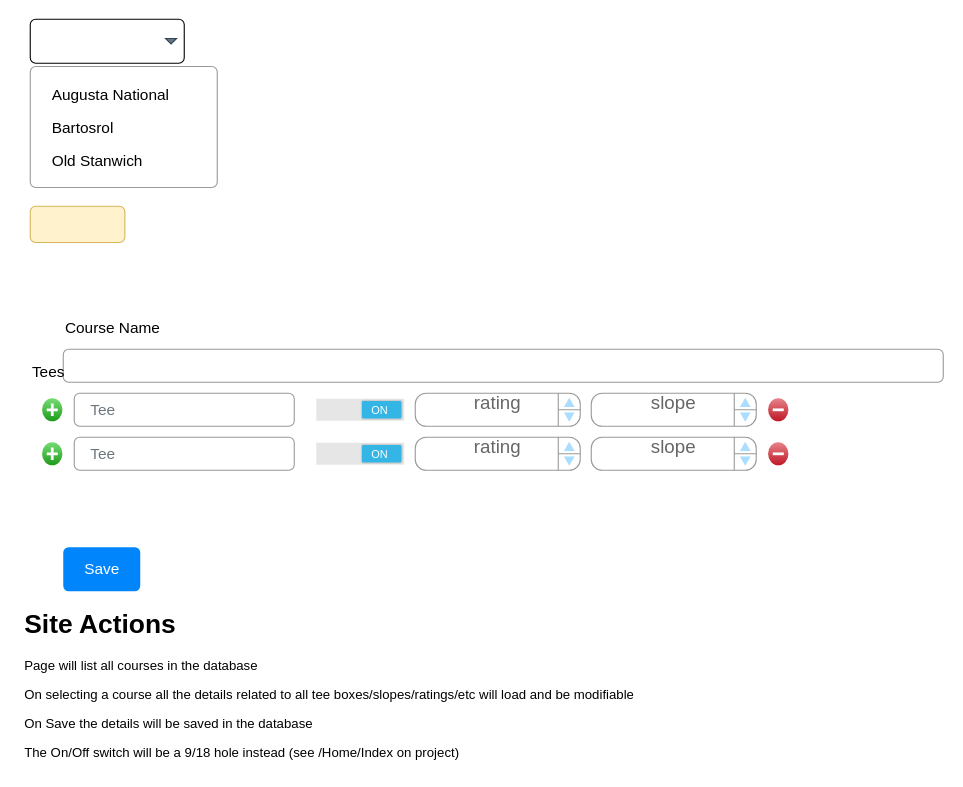
This 963x787 diagram has some shape labels left out. The box of each missing label's shape, as (x1, y1, x2, y2) in pixels:
Add Course: (29, 205, 125, 243)
Courses: (29, 18, 184, 63)
